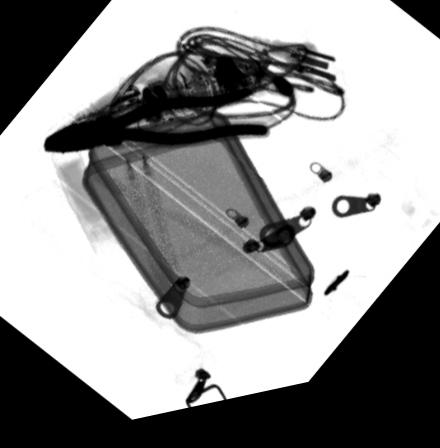Pliers: (41, 96, 269, 155)
